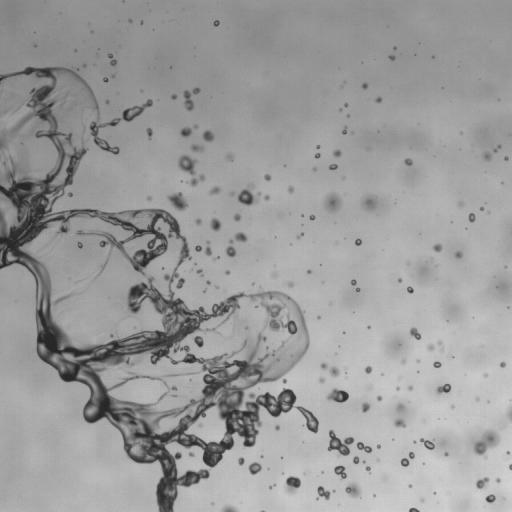droplet: (474, 430, 500, 458), (328, 430, 354, 456), (237, 184, 260, 205), (168, 192, 188, 210), (324, 192, 341, 211), (326, 388, 348, 402), (285, 476, 300, 494), (362, 195, 376, 210), (345, 483, 360, 497), (316, 486, 330, 500), (248, 462, 261, 474), (334, 465, 346, 478), (476, 477, 489, 489), (420, 438, 434, 449), (436, 384, 451, 394), (409, 327, 421, 339), (210, 218, 221, 231), (192, 336, 205, 347), (234, 232, 247, 242), (202, 130, 213, 141), (226, 245, 236, 257), (180, 127, 191, 137), (394, 418, 405, 427), (485, 494, 495, 503), (191, 144, 203, 151), (210, 186, 220, 194), (432, 244, 442, 252), (362, 402, 370, 412), (483, 152, 491, 161), (401, 458, 409, 466), (468, 213, 475, 222), (204, 246, 211, 255), (146, 128, 152, 138), (333, 150, 341, 157), (404, 158, 412, 165), (455, 251, 462, 258), (427, 344, 434, 351), (433, 361, 441, 367), (238, 457, 244, 465), (227, 154, 233, 161), (264, 174, 271, 180), (234, 214, 240, 221), (195, 218, 201, 225), (355, 238, 361, 245), (76, 241, 82, 248), (407, 286, 413, 293), (365, 366, 371, 373), (397, 403, 403, 410), (353, 456, 359, 463), (342, 126, 347, 134), (329, 164, 337, 169), (213, 20, 219, 26), (309, 214, 315, 220), (195, 245, 201, 251), (196, 269, 202, 275), (188, 451, 194, 457), (288, 186, 293, 193), (389, 55, 395, 60), (375, 97, 381, 102), (351, 279, 356, 285), (287, 282, 293, 287), (377, 395, 382, 401), (409, 452, 414, 458), (365, 466, 370, 472), (362, 83, 367, 88), (171, 94, 176, 99), (315, 153, 320, 158), (264, 195, 269, 200), (458, 201, 463, 206), (225, 270, 230, 275), (500, 362, 505, 367), (319, 378, 324, 383), (103, 78, 108, 82), (193, 124, 197, 129), (2, 160, 6, 165), (147, 196, 151, 201), (400, 359, 405, 363), (275, 425, 279, 430), (495, 478, 500, 482), (504, 156, 508, 160), (68, 192, 72, 196), (229, 239, 233, 243), (483, 373, 487, 377), (408, 386, 412, 390), (198, 423, 202, 427), (444, 452, 448, 456), (189, 379, 192, 384), (21, 140, 24, 144), (22, 149, 25, 153), (214, 256, 218, 259), (307, 270, 311, 273), (272, 273, 276, 276), (398, 278, 401, 282), (356, 288, 360, 291), (377, 444, 380, 448), (506, 451, 510, 454), (344, 103, 347, 106), (316, 145, 319, 148), (313, 167, 316, 170), (230, 192, 233, 195), (480, 207, 483, 210), (206, 281, 209, 284), (438, 341, 441, 344), (450, 405, 453, 408), (129, 19, 131, 22), (393, 47, 396, 49), (111, 75, 114, 77), (106, 100, 108, 103), (207, 241, 209, 244), (317, 316, 320, 318), (367, 326, 370, 328), (417, 359, 419, 362), (396, 387, 399, 389), (476, 398, 479, 400), (260, 455, 263, 457), (409, 484, 411, 487), (162, 267, 164, 269), (204, 289, 206, 291), (502, 426, 504, 428), (421, 499, 423, 501)
ligament: (0, 69, 315, 511), (178, 155, 204, 186), (183, 88, 199, 110), (320, 363, 339, 377), (356, 442, 371, 453), (58, 93, 68, 109), (221, 504, 238, 511), (108, 53, 116, 66), (506, 406, 511, 421), (493, 145, 501, 152), (409, 507, 419, 511), (297, 233, 303, 238), (268, 484, 275, 488), (508, 464, 511, 470), (261, 510, 264, 511)
